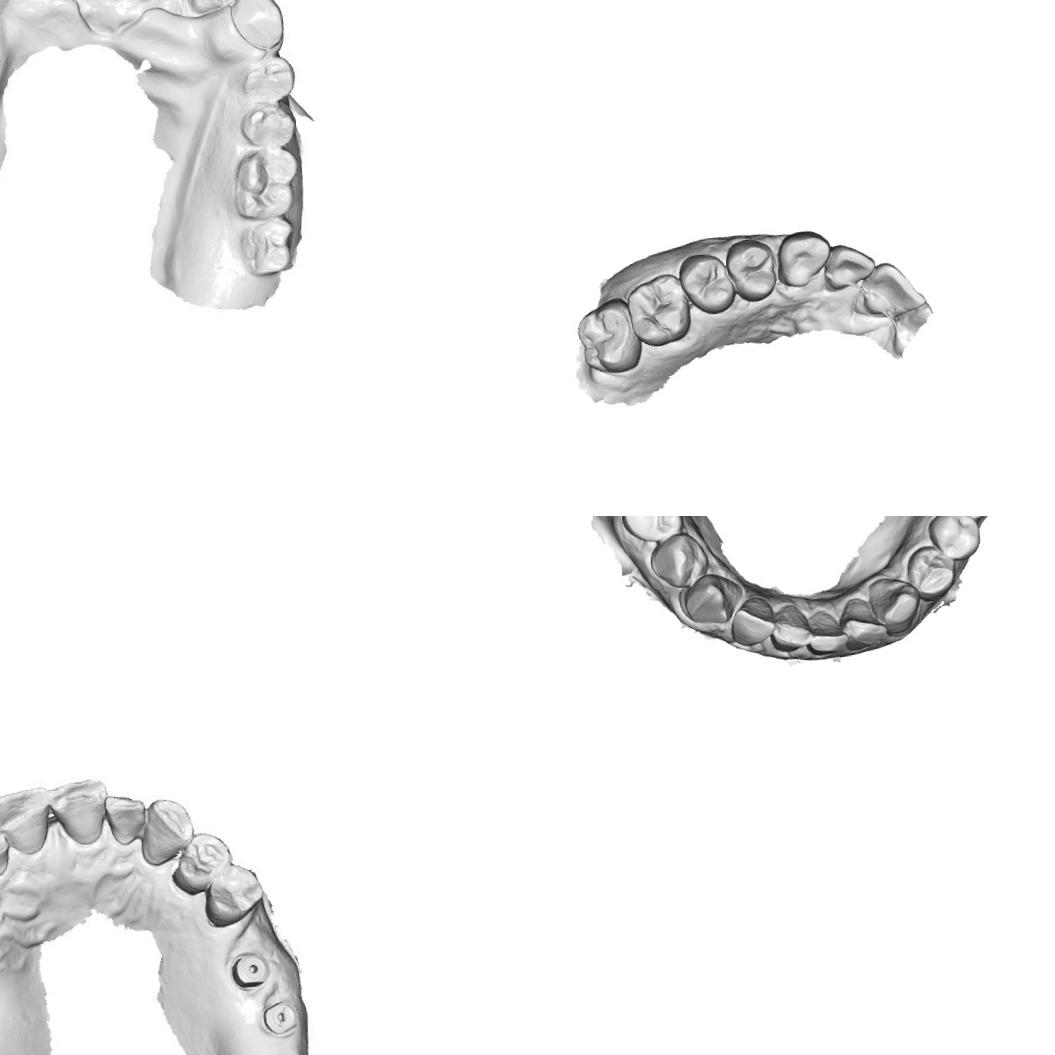canine: (133, 791, 198, 870), (773, 226, 834, 290), (678, 570, 742, 628), (866, 572, 922, 636), (225, 0, 289, 54)
implant: (230, 944, 274, 992), (264, 997, 300, 1035)
incisor: (848, 258, 926, 320), (49, 776, 112, 847), (0, 783, 53, 855), (820, 240, 878, 292), (838, 593, 886, 651), (766, 600, 816, 655), (726, 596, 778, 648), (101, 788, 148, 845), (803, 606, 850, 660), (181, 0, 245, 15), (0, 824, 13, 879)
molar: (572, 294, 644, 376), (228, 146, 301, 222), (623, 270, 694, 348), (236, 217, 296, 279)
premolar: (164, 828, 236, 899), (202, 860, 268, 930), (676, 250, 737, 318), (645, 530, 713, 590), (722, 235, 778, 304), (903, 538, 960, 603), (232, 52, 300, 106), (238, 100, 302, 151), (926, 516, 985, 564), (617, 516, 684, 544)
